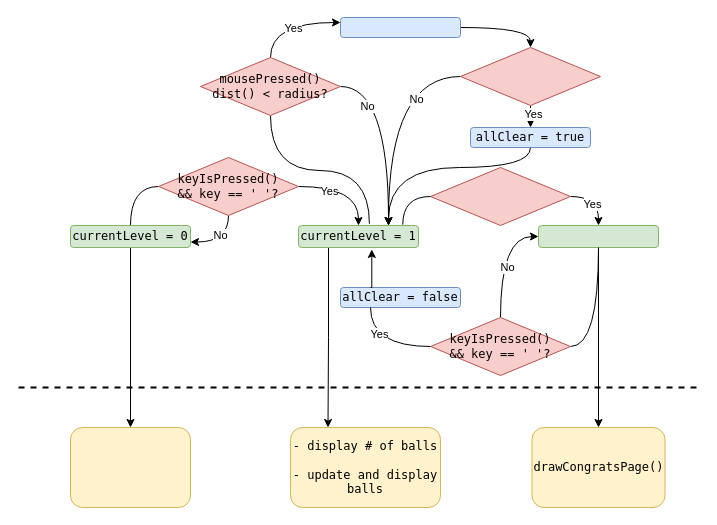
The diagram is 717 pixels wide and 525 high, and some of its shapes have lost their labels. The box of each missing label's shape, as (x1, y1, x2, y2) in pixels:
allClear?: (430, 166, 570, 226)
balls.length == 0?: (460, 46, 600, 106)
currentLevel = 2: (538, 224, 658, 248)
delete the ball: (340, 16, 460, 38)
drawStartPage(): (70, 426, 190, 508)
